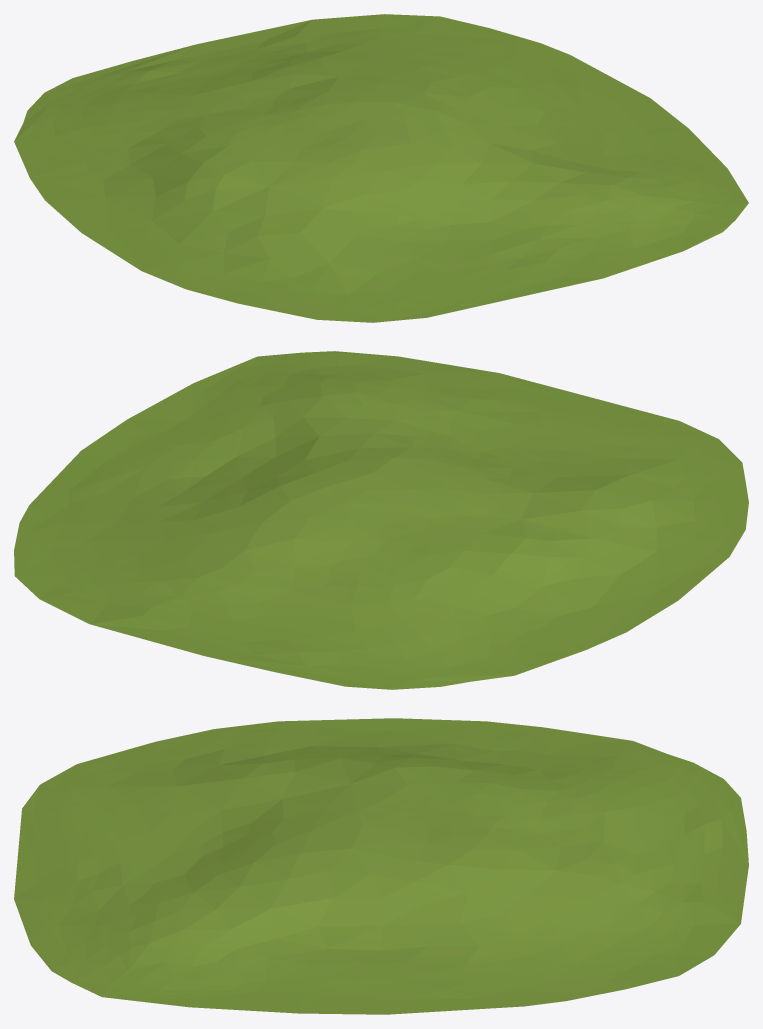
File: Mesh_Landscape_Hill_01.FBX
3 renders of one model, top to bottom at view 1: azimuth 30°, elevation 25°; view 2: azimuth 150°, elevation 25°; view 3: azimuth 270°, elevation 25°, orthographic. The views are drawn at different scales.
Visible parts, largest first — view 1: Mesh_Landscape_Hill_01; view 2: Mesh_Landscape_Hill_01; view 3: Mesh_Landscape_Hill_01.
Part boxes in pixels (x1,y1,x2,y2): Mesh_Landscape_Hill_01: [14, 14, 748, 322]; Mesh_Landscape_Hill_01: [14, 351, 748, 689]; Mesh_Landscape_Hill_01: [14, 718, 748, 1014].
Size of the model in its own units: 1887 by 1976 by 93.97.
